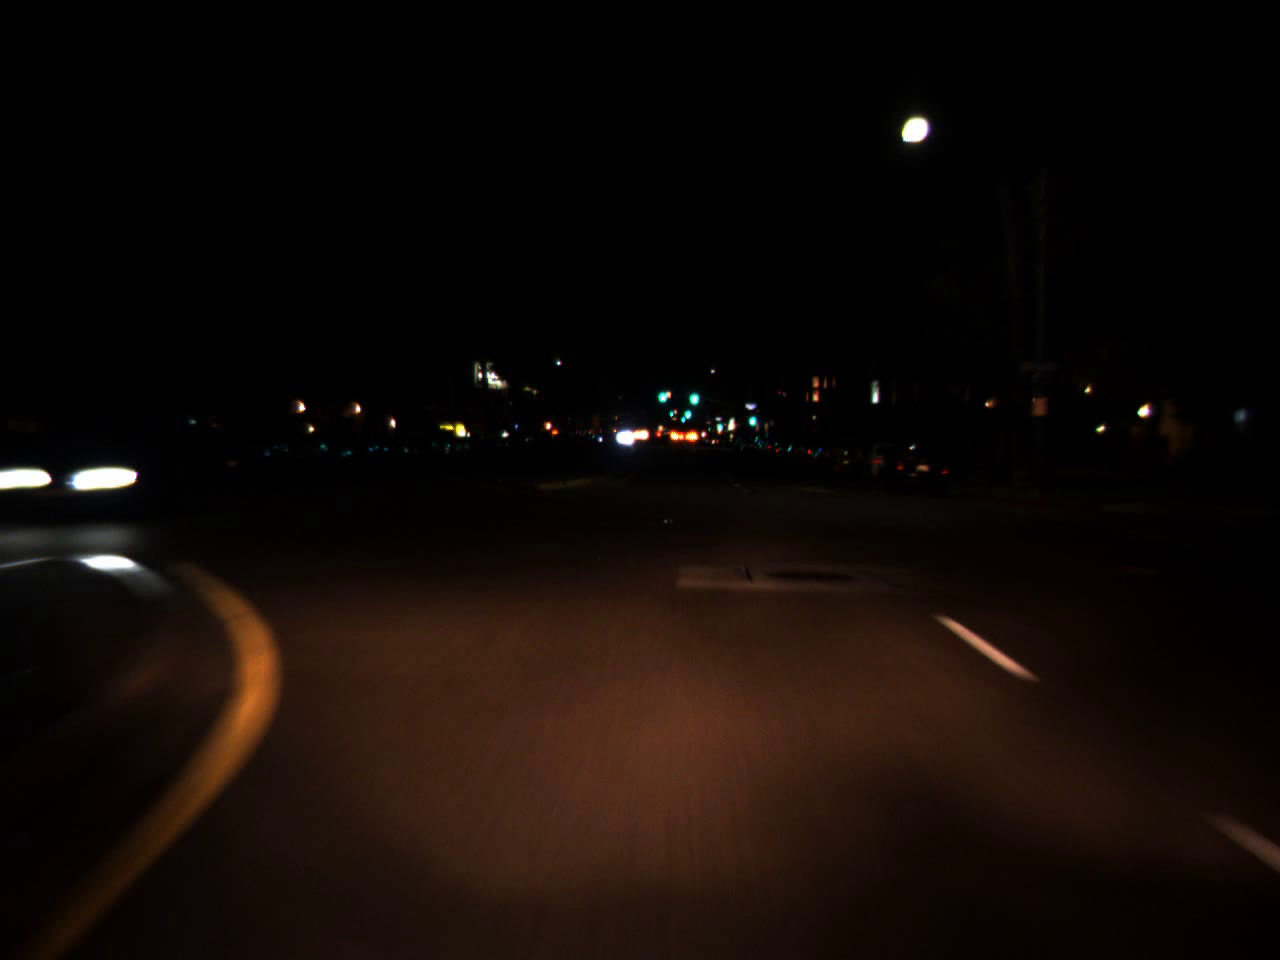go: (686, 379, 700, 409), (655, 379, 667, 406), (747, 405, 757, 429), (683, 404, 692, 419), (716, 415, 723, 433), (667, 404, 674, 419), (679, 412, 686, 424)
